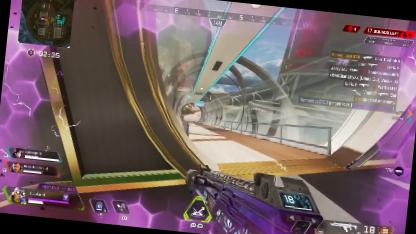Target: (196, 115, 204, 125)
